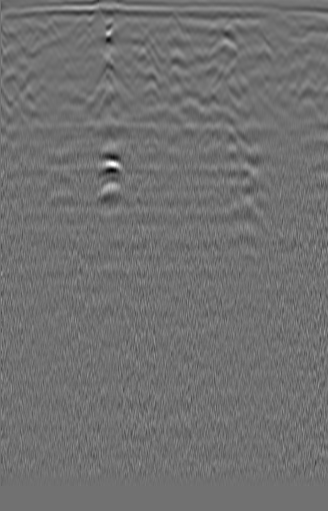가스: (93, 144, 127, 187)
상수: (9, 38, 39, 65)
오수: (288, 37, 322, 64)
우수: (163, 10, 187, 43)
